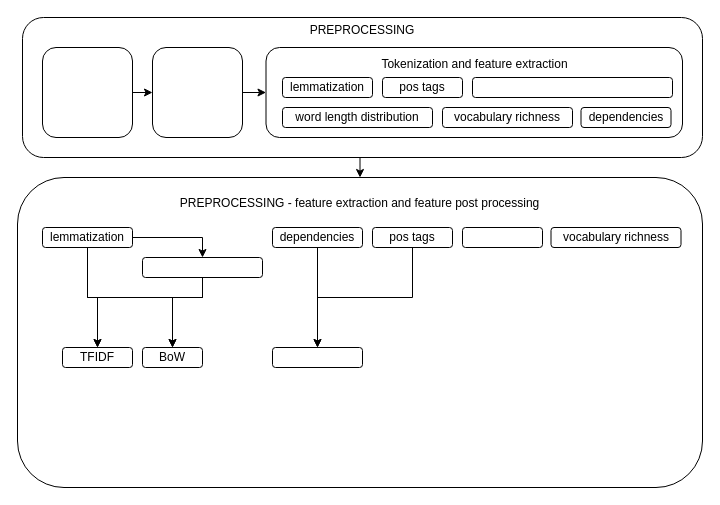
Some shapes in this 720 by 505 pixel diagram are drawn without their labels. Here are the shapes that lost their labels. From the top down, the centre of each, then its label:
At [87,92]: "RAW dataset P N ,C N".
At [197,92]: "Rolling selection P R ,C R".
At [572,87]: "word embeddings".
At [502,237]: "WLD".
At [202,267]: "special characters".
At [317,357]: "Counter".
